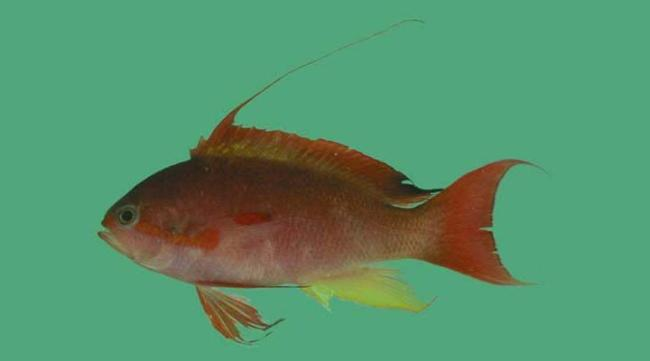fish: (99, 112, 552, 346)
